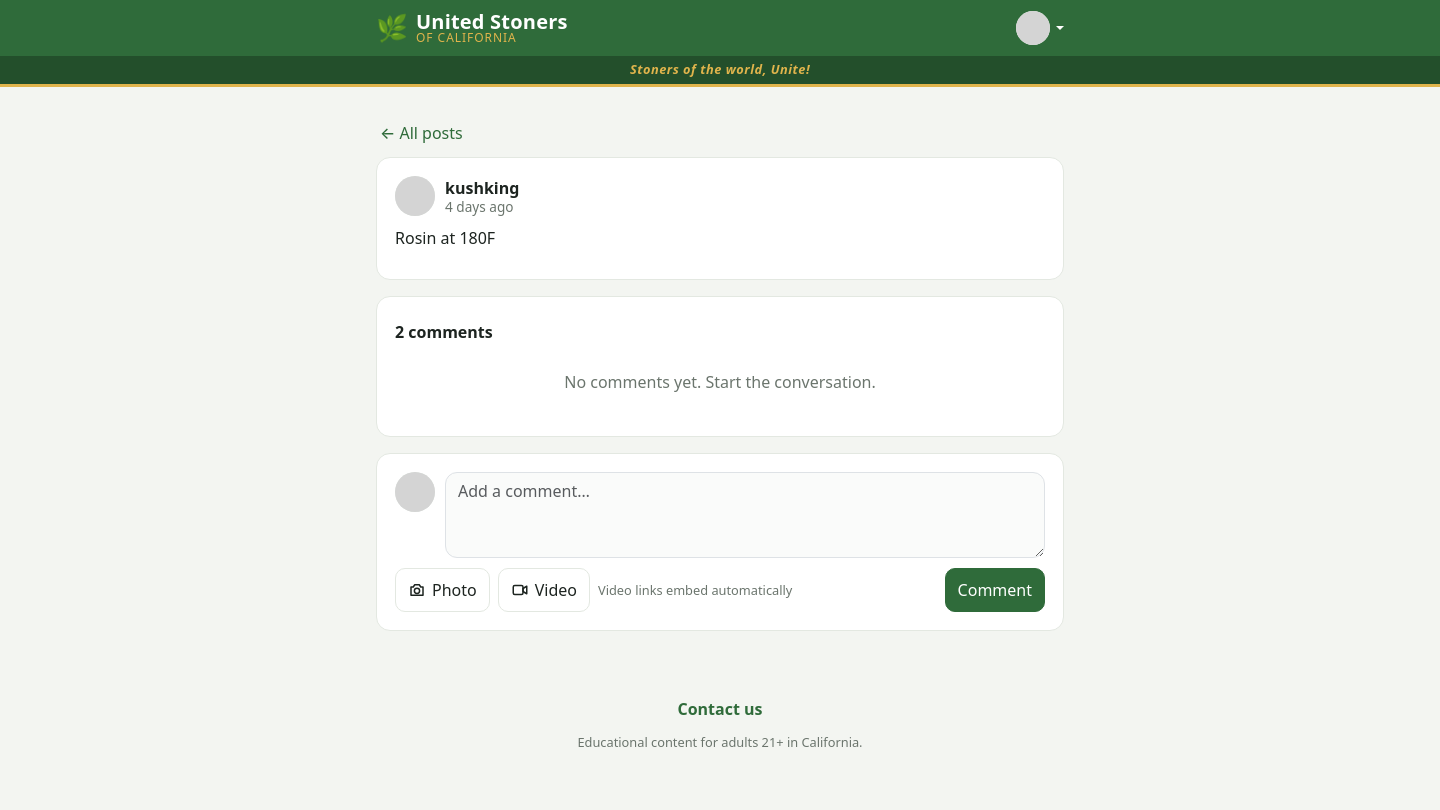
Scenario: video uploads › two video links in one comment are refused
The image size is (1440, 810).
Step 1. Type "https://youtu.be/dQw4w9WgXcQ and https://vimeo.com/76979871" into the text box with placeholder "Add a comment…" → x=745, y=515, box [445,472,1045,558]
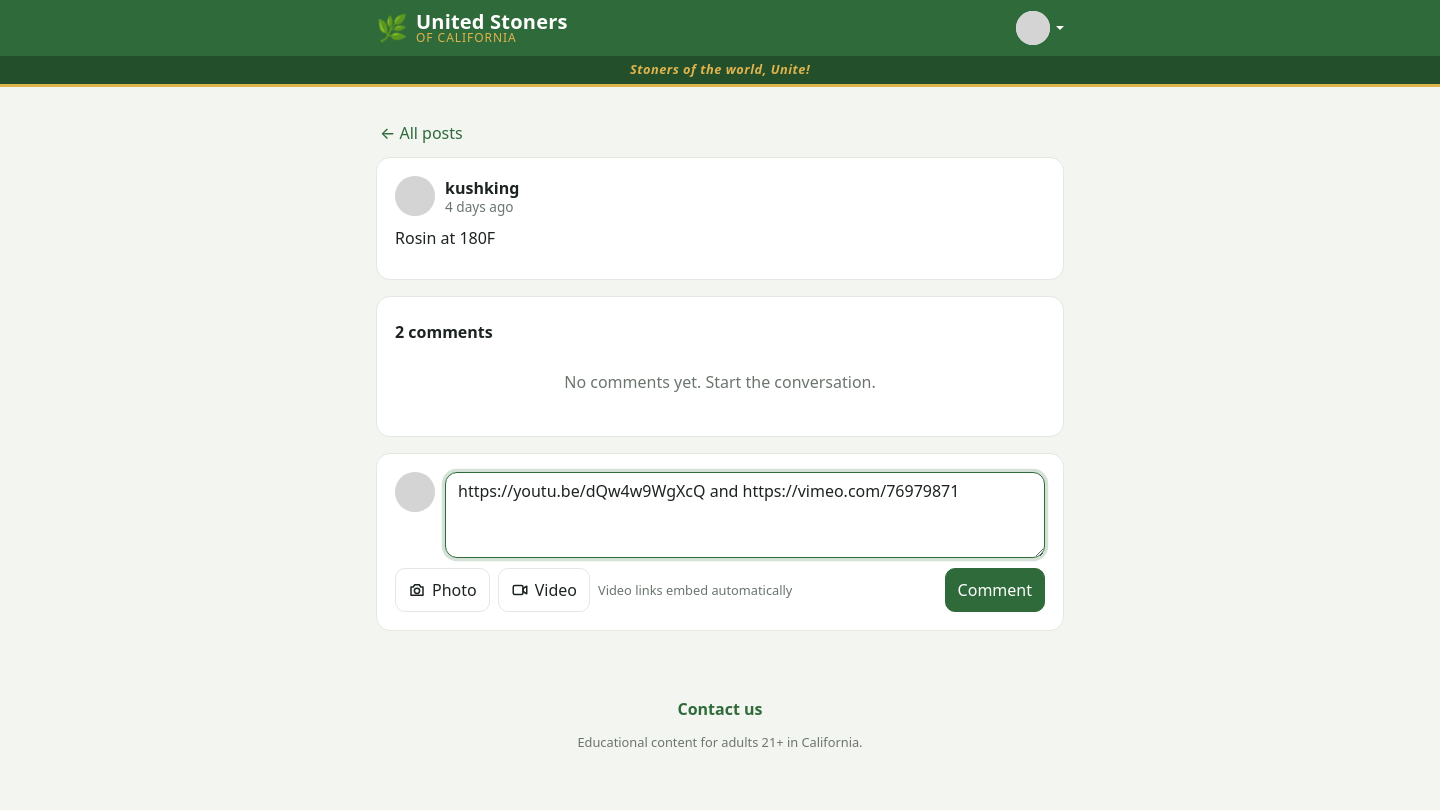
Step 2. Click the button "Comment" → x=995, y=590, box [945,568,1045,612]
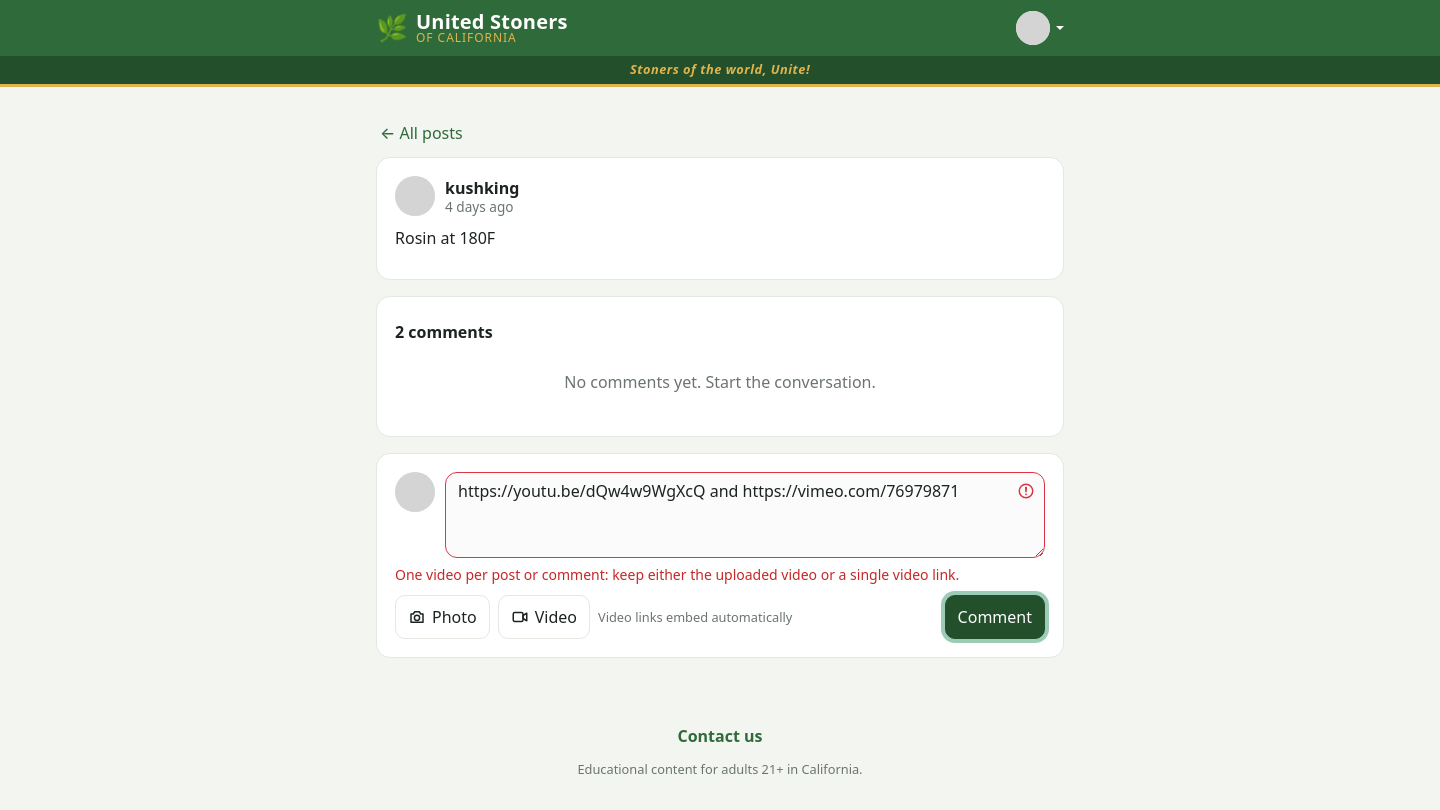
Check: the text "One video per post or comment" is shown, box [395,565,959,584]
